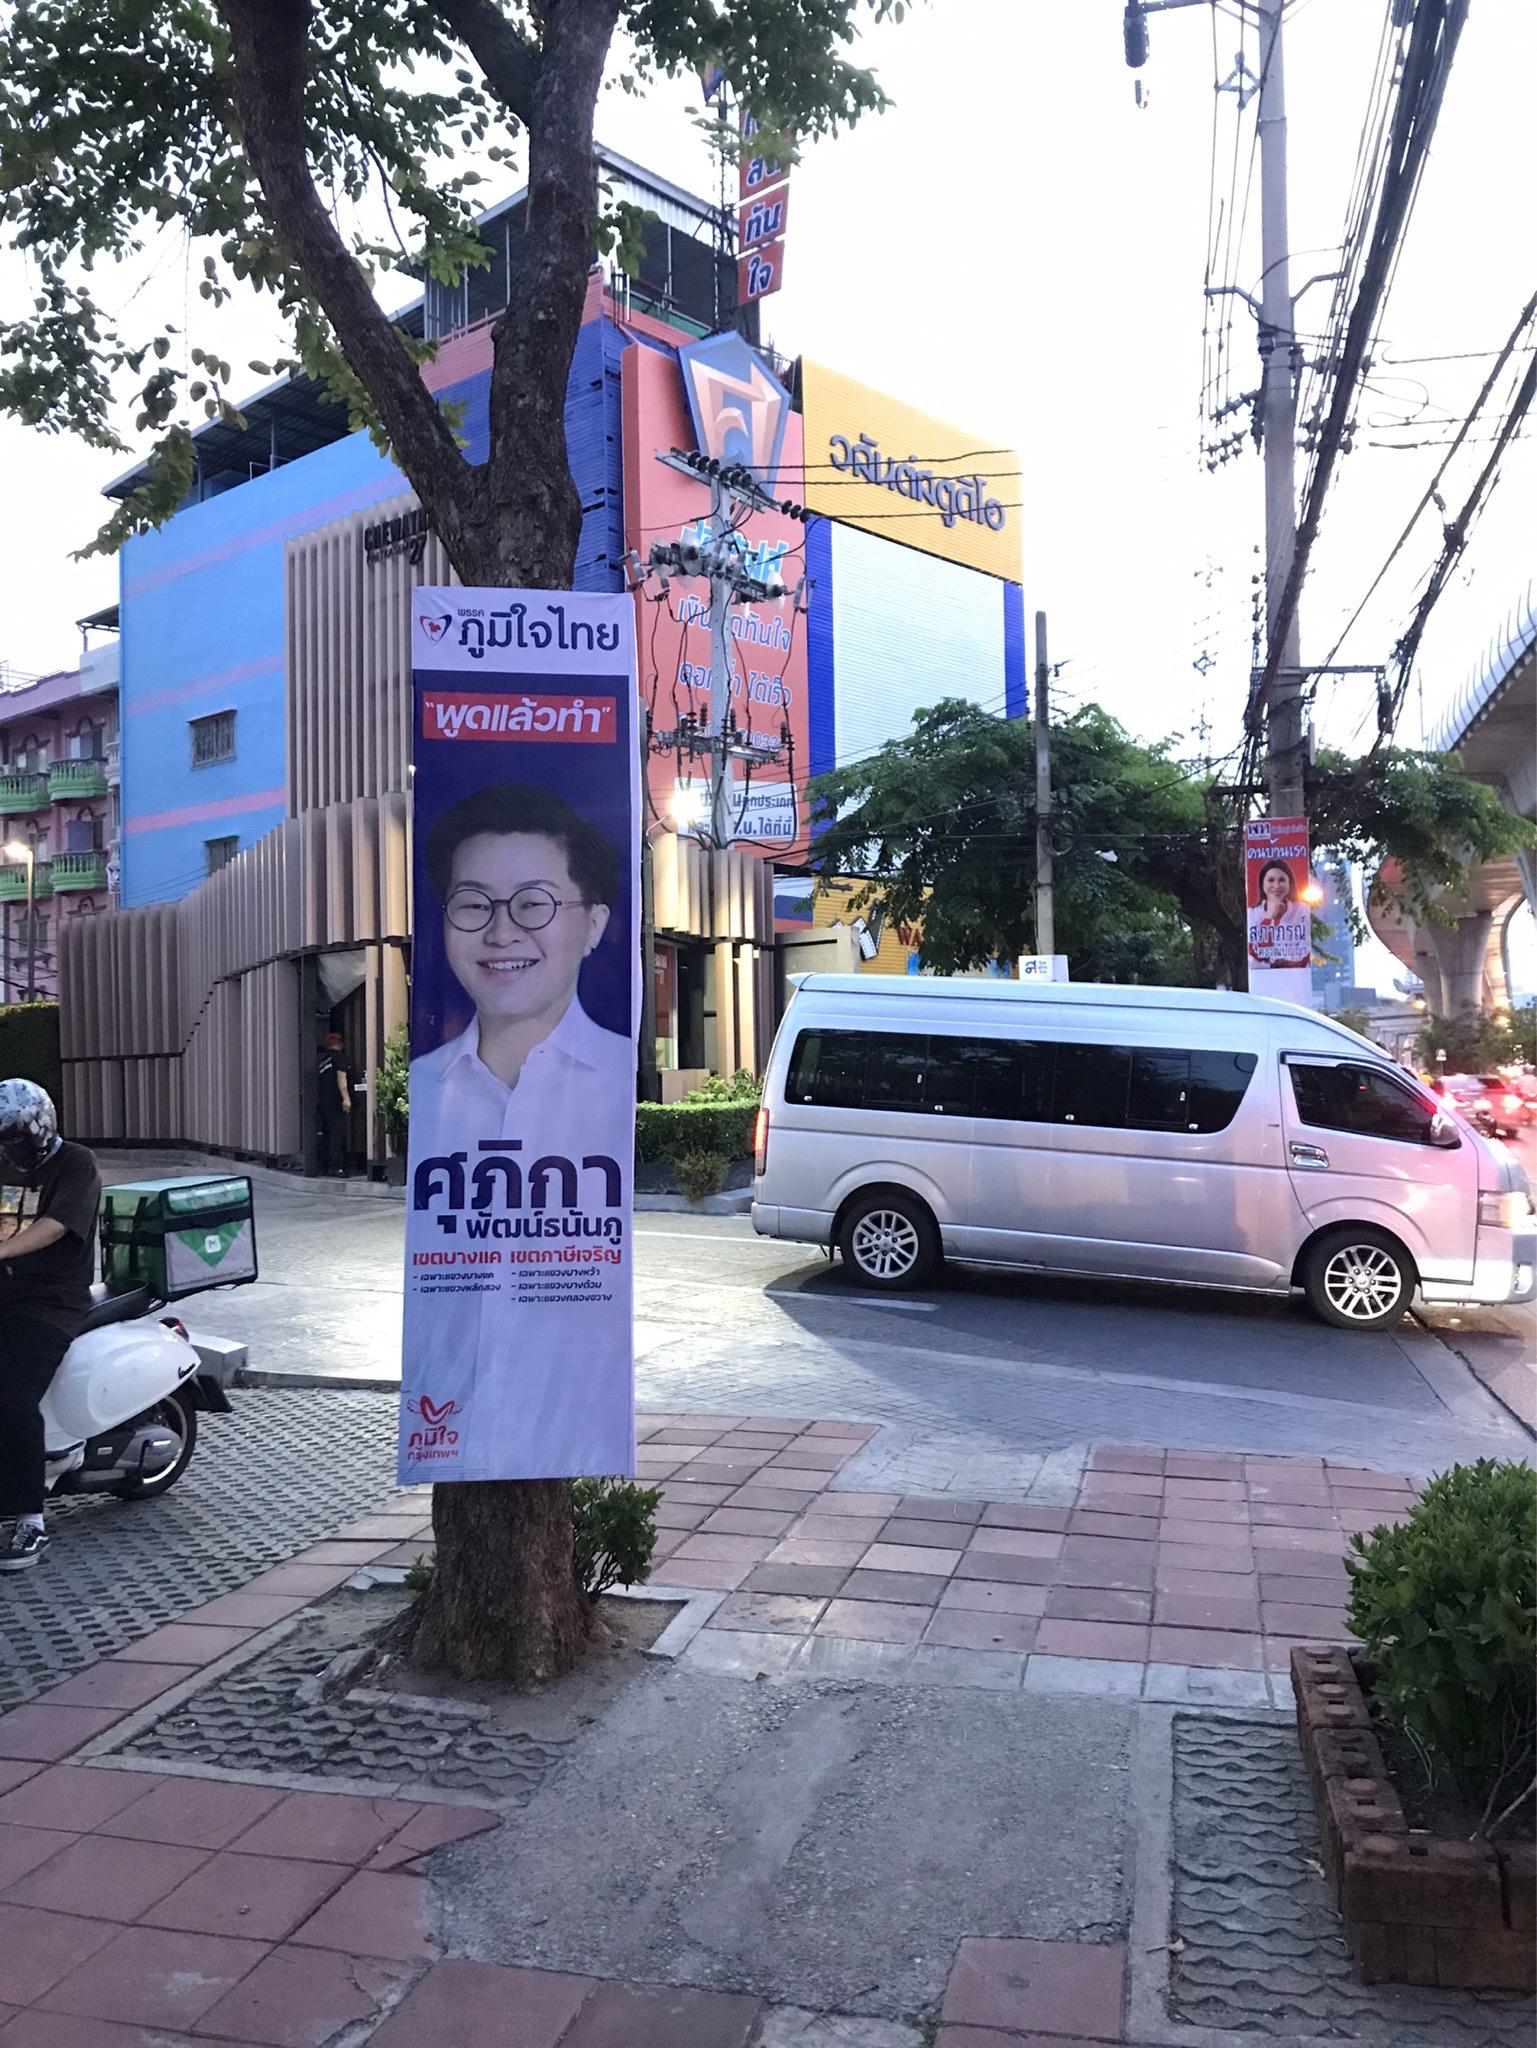Banner: (384, 562, 647, 1485)
